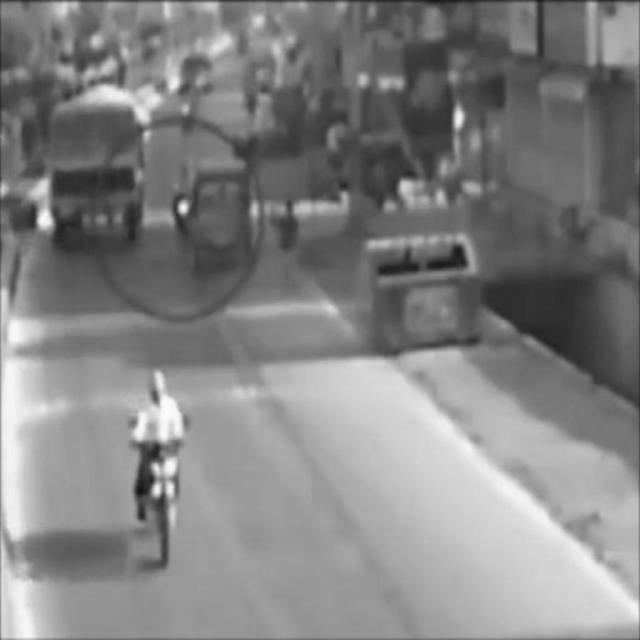accident: (171, 165, 253, 283)
person: (275, 196, 302, 298)
vehicle: (129, 368, 189, 575), (53, 108, 145, 242)
